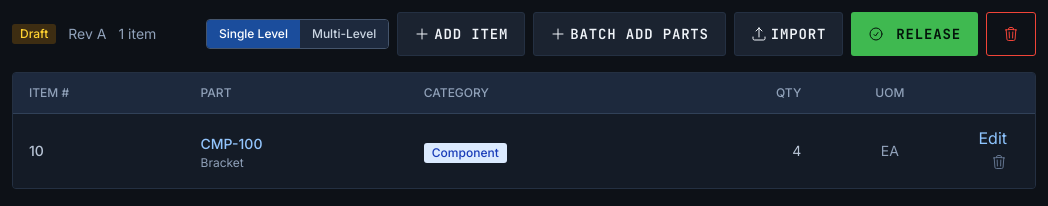
Test: BOM contents and line editing › shows a recoverable explosion failure instead of an empty BOM
Click the button "Multi-Level".
click(344, 34)  # box [300,20,388,48]
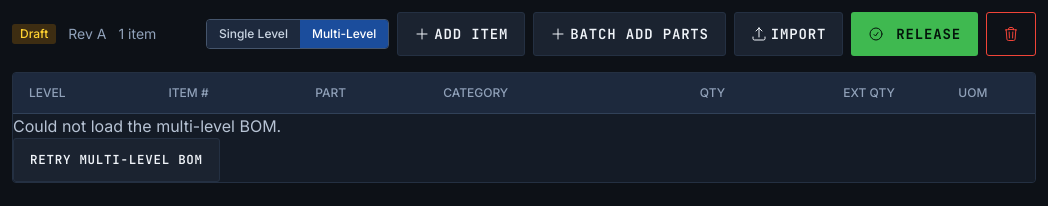
expect the text "Could not load the multi-level BOM." is shown: met, box [13,116,281,136]
expect the button "Retry multi-level BOM" is shown: met, box [13,138,220,182]
